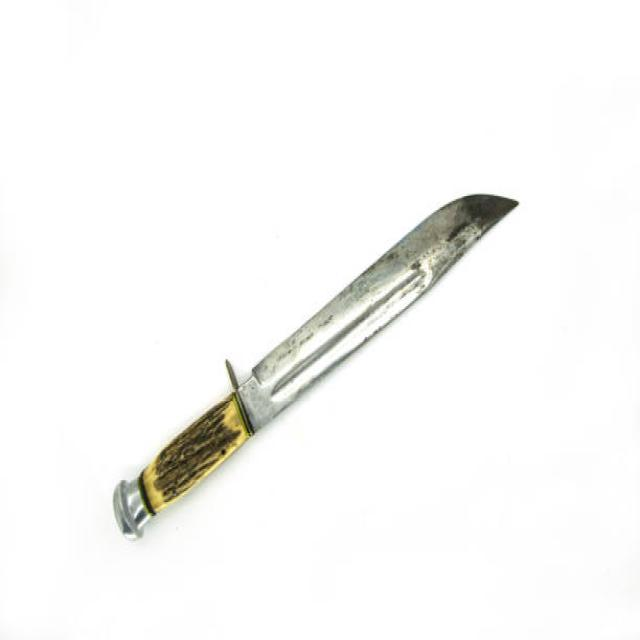knife: (109, 179, 531, 550)
